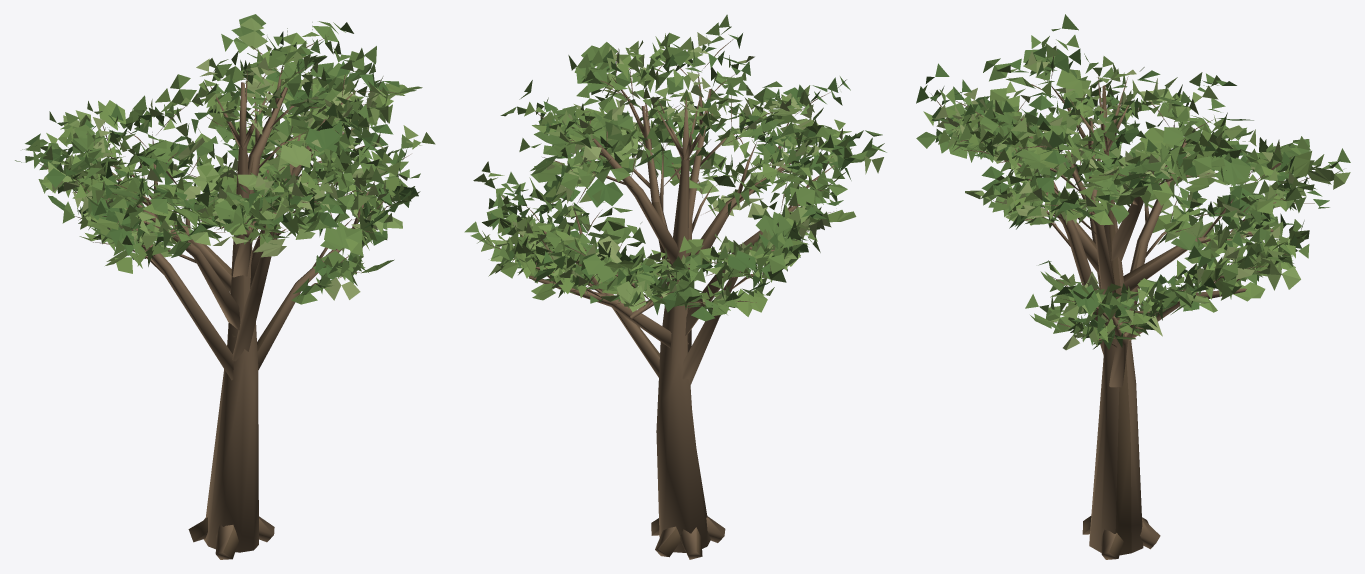
The model's file is tree_maple_rebuilt_lod2.glb.
3 renders of one model, left to right at view 1: azimuth 30°, elevation 25°; view 2: azimuth 150°, elevation 25°; view 3: azimuth 270°, elevation 25°, orthographic. The views are drawn at different scales.
Parts seen in each view (by area): view 1: TREE_02_Airy_FieldMaple__SCULPTED_LEAVES_NEW_V2, TREE_02_Airy_FieldMaple__BARK_AND_BRANCHES_NEW_V2; view 2: TREE_02_Airy_FieldMaple__SCULPTED_LEAVES_NEW_V2, TREE_02_Airy_FieldMaple__BARK_AND_BRANCHES_NEW_V2; view 3: TREE_02_Airy_FieldMaple__SCULPTED_LEAVES_NEW_V2, TREE_02_Airy_FieldMaple__BARK_AND_BRANCHES_NEW_V2.
Boxes of the visible parts, left/top/right/bottom form: TREE_02_Airy_FieldMaple__SCULPTED_LEAVES_NEW_V2: left=15, top=14, right=435, bottom=304; TREE_02_Airy_FieldMaple__BARK_AND_BRANCHES_NEW_V2: left=38, top=36, right=410, bottom=559; TREE_02_Airy_FieldMaple__SCULPTED_LEAVES_NEW_V2: left=464, top=14, right=886, bottom=321; TREE_02_Airy_FieldMaple__BARK_AND_BRANCHES_NEW_V2: left=488, top=39, right=866, bottom=559; TREE_02_Airy_FieldMaple__SCULPTED_LEAVES_NEW_V2: left=916, top=14, right=1350, bottom=350; TREE_02_Airy_FieldMaple__BARK_AND_BRANCHES_NEW_V2: left=931, top=46, right=1314, bottom=559.
Bounding box in the file's own units: 3.05 × 3.61 × 2.98.
